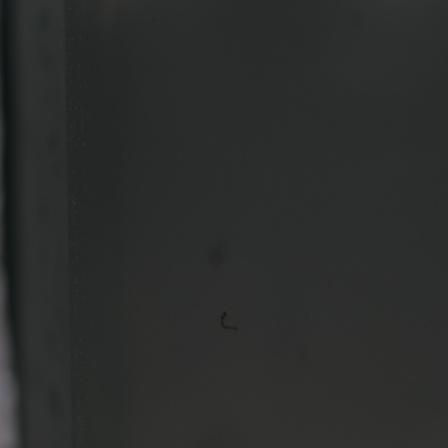Jentik-Nyamuk: (214, 303, 244, 337)
